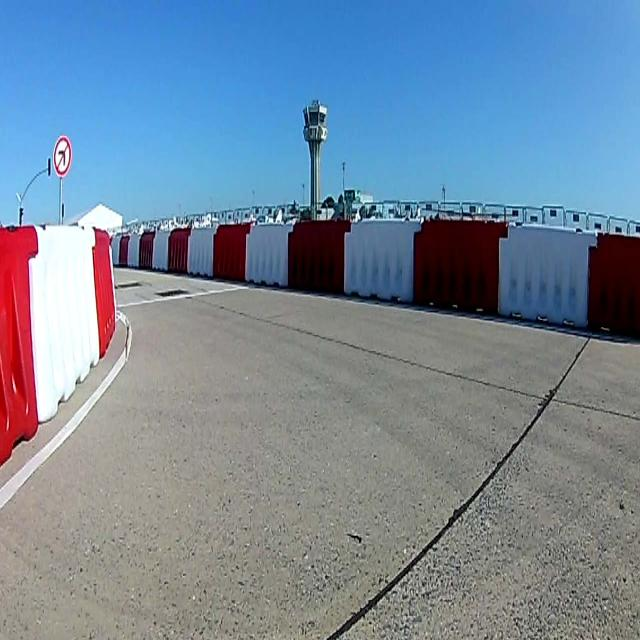soladonulmez: (54, 136, 72, 173)
